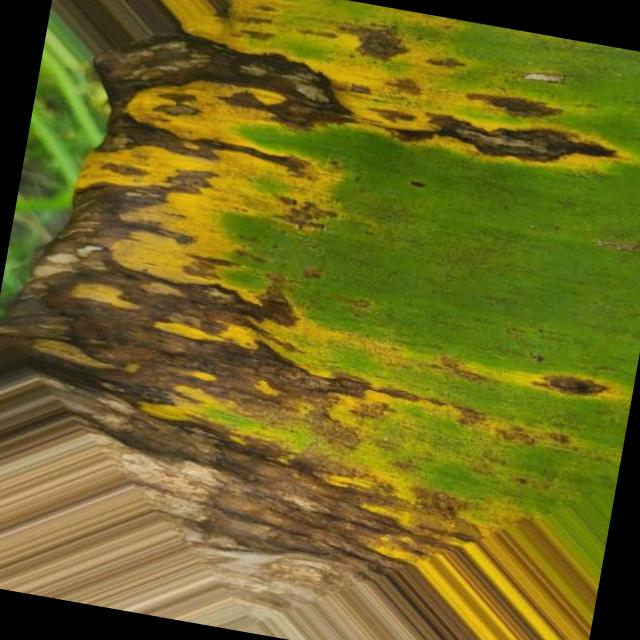Banana_Black_Sigatoka: (0, 190, 603, 622), (61, 0, 640, 265)
